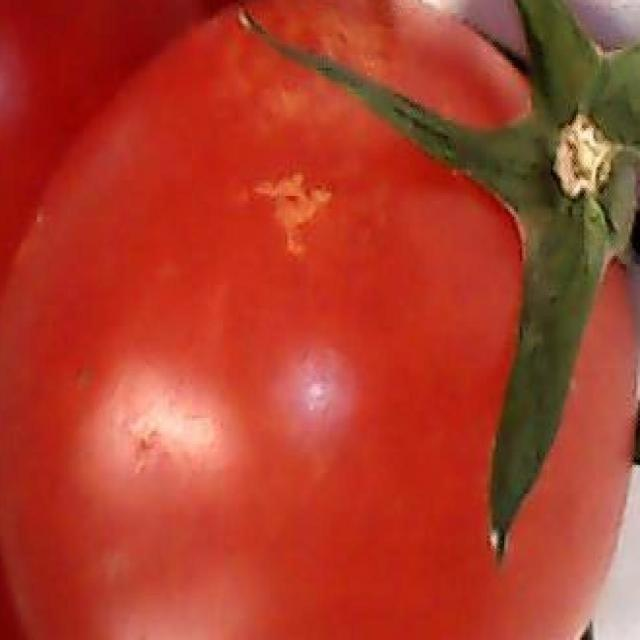Healthy Fruit: (15, 0, 427, 427)
